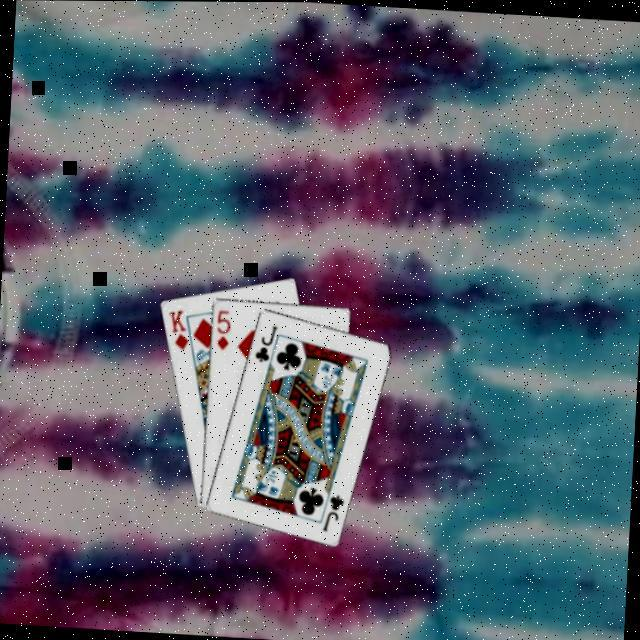5D: (211, 308, 233, 353)
JC: (250, 322, 279, 365), (318, 491, 347, 534)
KD: (164, 306, 192, 353)
